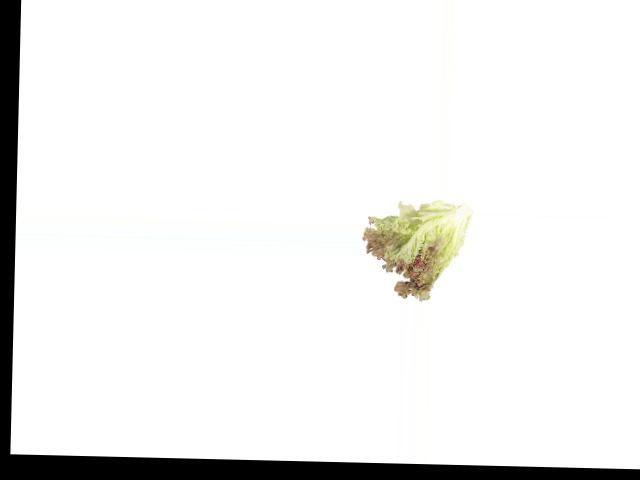lettuce: (360, 200, 471, 300)
